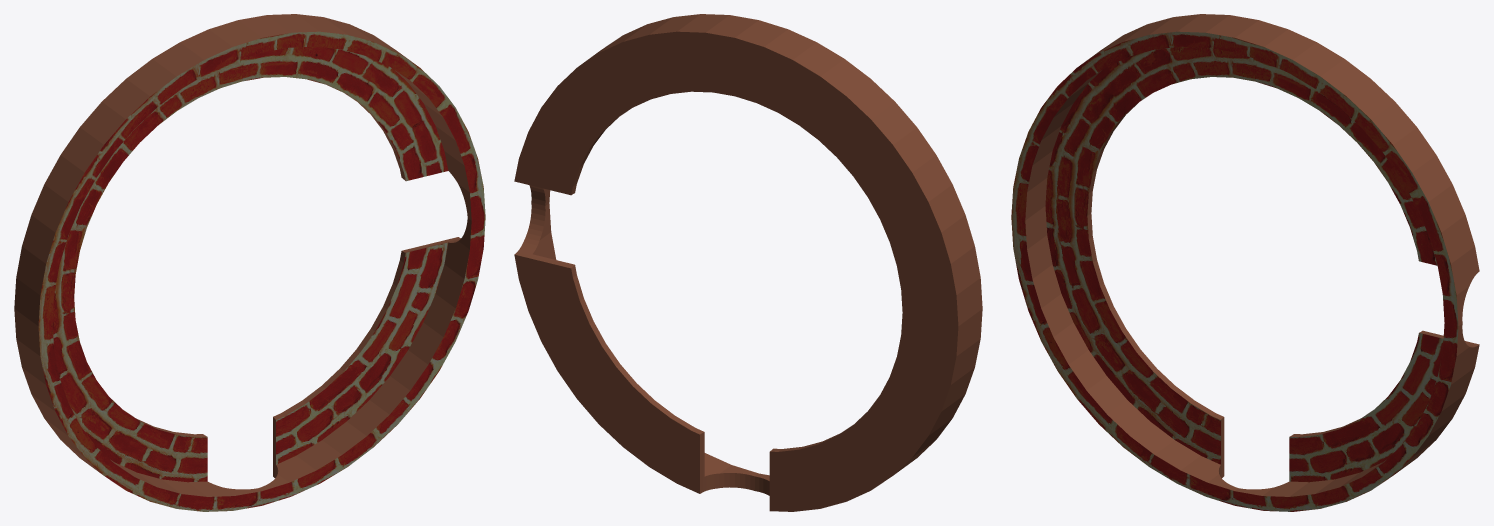
File: pool_000.obj
3 views of the same model, side by side, from view 1: azimuth 30°, elevation 25°; view 2: azimuth 150°, elevation 25°; view 3: azimuth 330°, elevation 25° (orthographic).
Bounding box in the file's own units: 32 × 32 × 3.
Materials: 1 (1 with a texture image).
